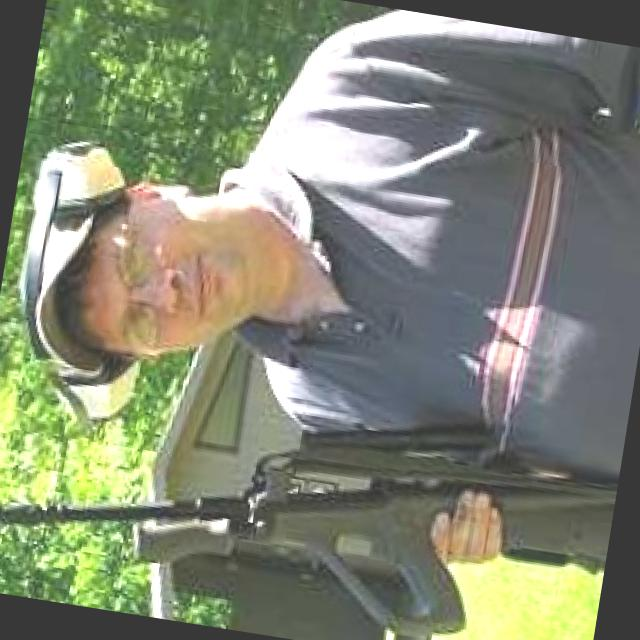long weapon: (0, 404, 583, 581)
